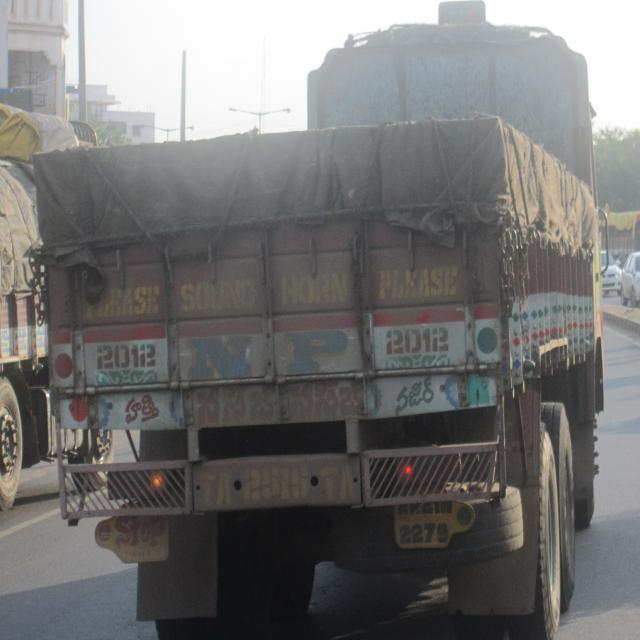truck_back: (28, 14, 614, 640)
